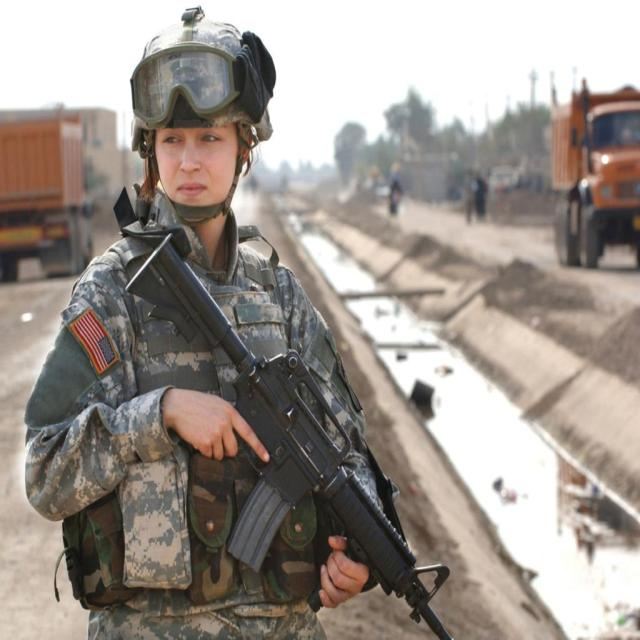Face: (146, 106, 243, 240)
